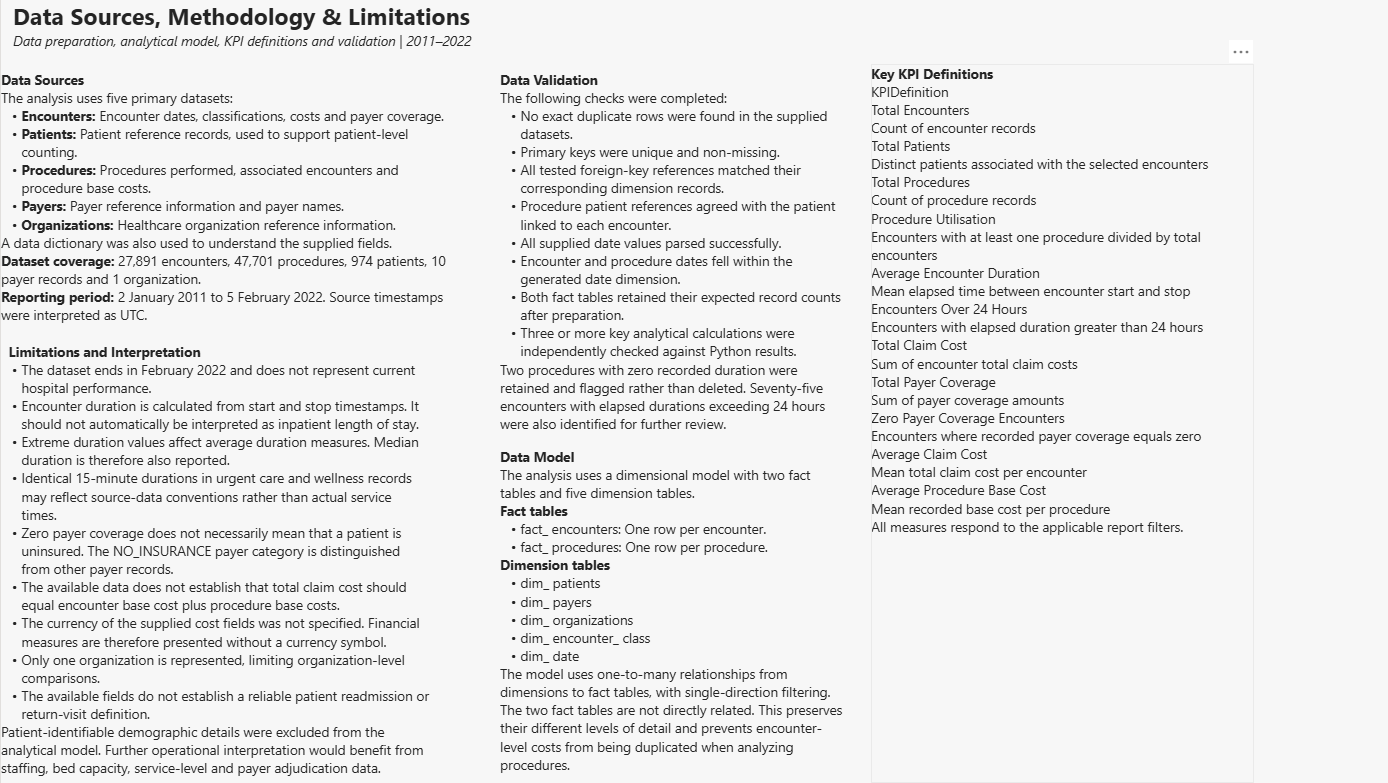

Layout of this report page (visuals, bound fields, positions):
{"tool":"powerbi","page":{"name":"Data & Methodology","canvas":[1920,1080],"ordinal":4},"visuals":[{"type":"textbox","box":[16,0,784,96],"z":0},{"type":"textbox","box":[0,96,624,368],"z":1},{"type":"textbox","box":[688,616,480,464],"z":2},{"type":"textbox","box":[1200,88,528,992],"z":3},{"type":"textbox","box":[688,96,480,544],"z":4},{"type":"textbox","box":[0,472,592,608],"z":5}]}

Visuals, with their boxes in screenshot pixels (x1, y1, x2, y2), scaled from the page's 1920x1080 canvas onto the 1388x783 screenshot:
textbox: {"left": 12, "top": 0, "right": 578, "bottom": 70}
textbox: {"left": 0, "top": 70, "right": 451, "bottom": 336}
textbox: {"left": 497, "top": 447, "right": 844, "bottom": 782}
textbox: {"left": 868, "top": 64, "right": 1249, "bottom": 782}
textbox: {"left": 497, "top": 70, "right": 844, "bottom": 464}
textbox: {"left": 0, "top": 342, "right": 428, "bottom": 782}
